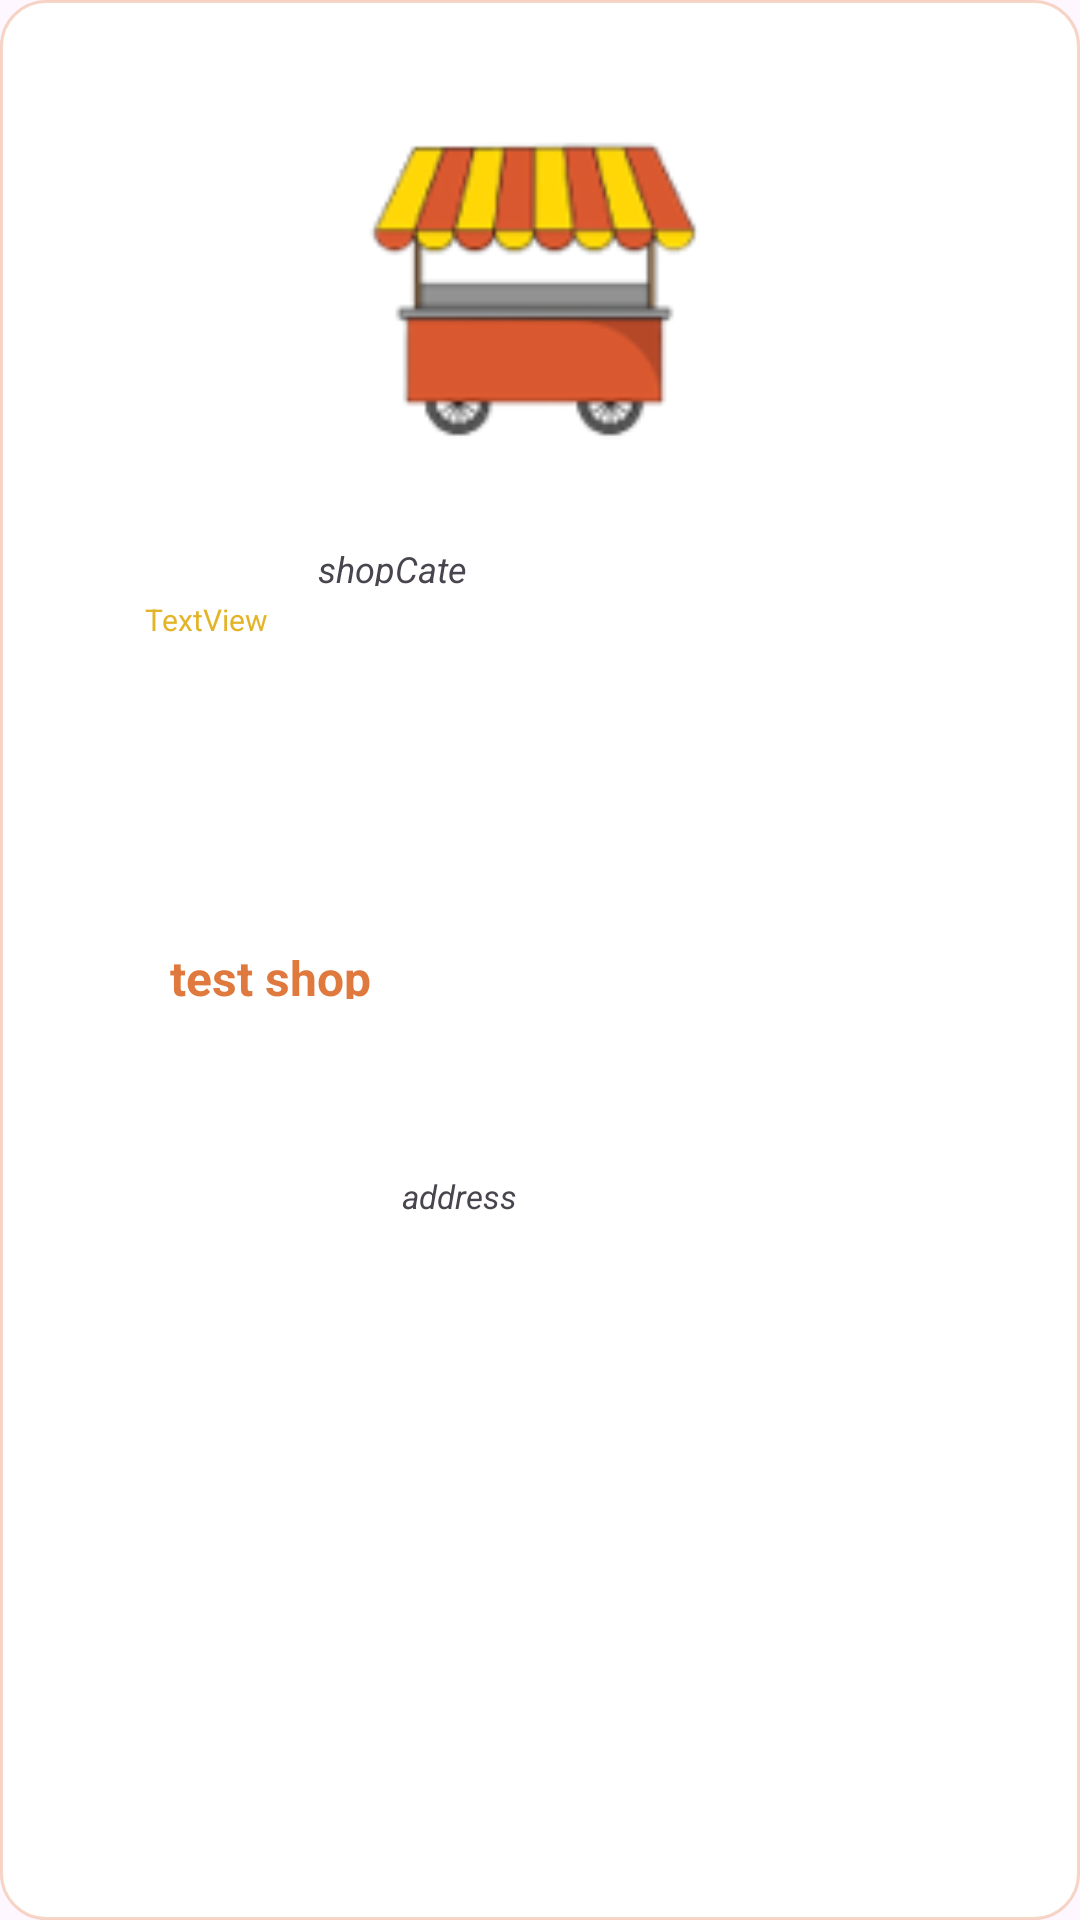

Icons on this 1080×1920 Android screen, each with its box as (x1, y1, x2, y2):
pocha: (372, 144, 696, 436)
